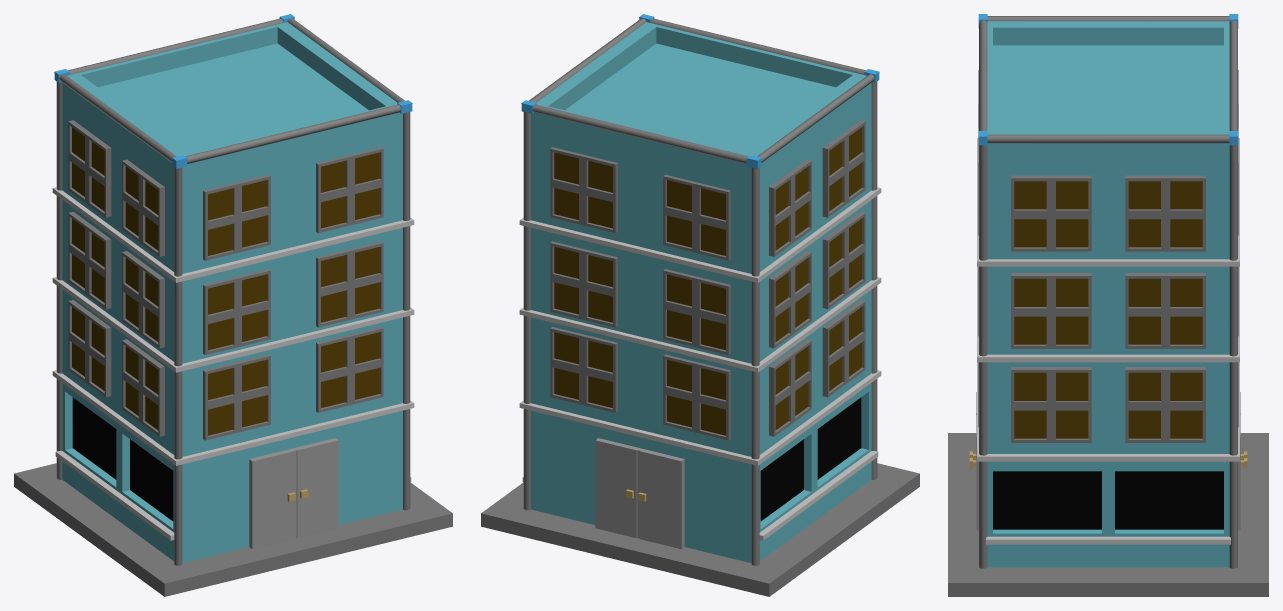
Rendered from House15.fbx.
3 renders of one model, left to right at view 1: azimuth 30°, elevation 25°; view 2: azimuth 150°, elevation 25°; view 3: azimuth 270°, elevation 25°, orthographic. The views are drawn at different scales.
Parts seen in each view (by area): view 1: House.015; view 2: House.015; view 3: House.015.
Part boxes in pixels (box(x1,y1,x2,y2)): House.015: box(14, 14, 452, 596); House.015: box(481, 14, 919, 596); House.015: box(948, 14, 1268, 596).
Bounding box in the file's own units: 738 × 1025 × 667.
